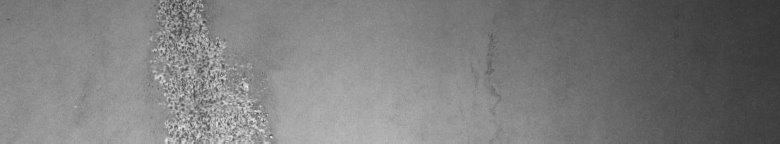hc: (146, 4, 273, 136)
